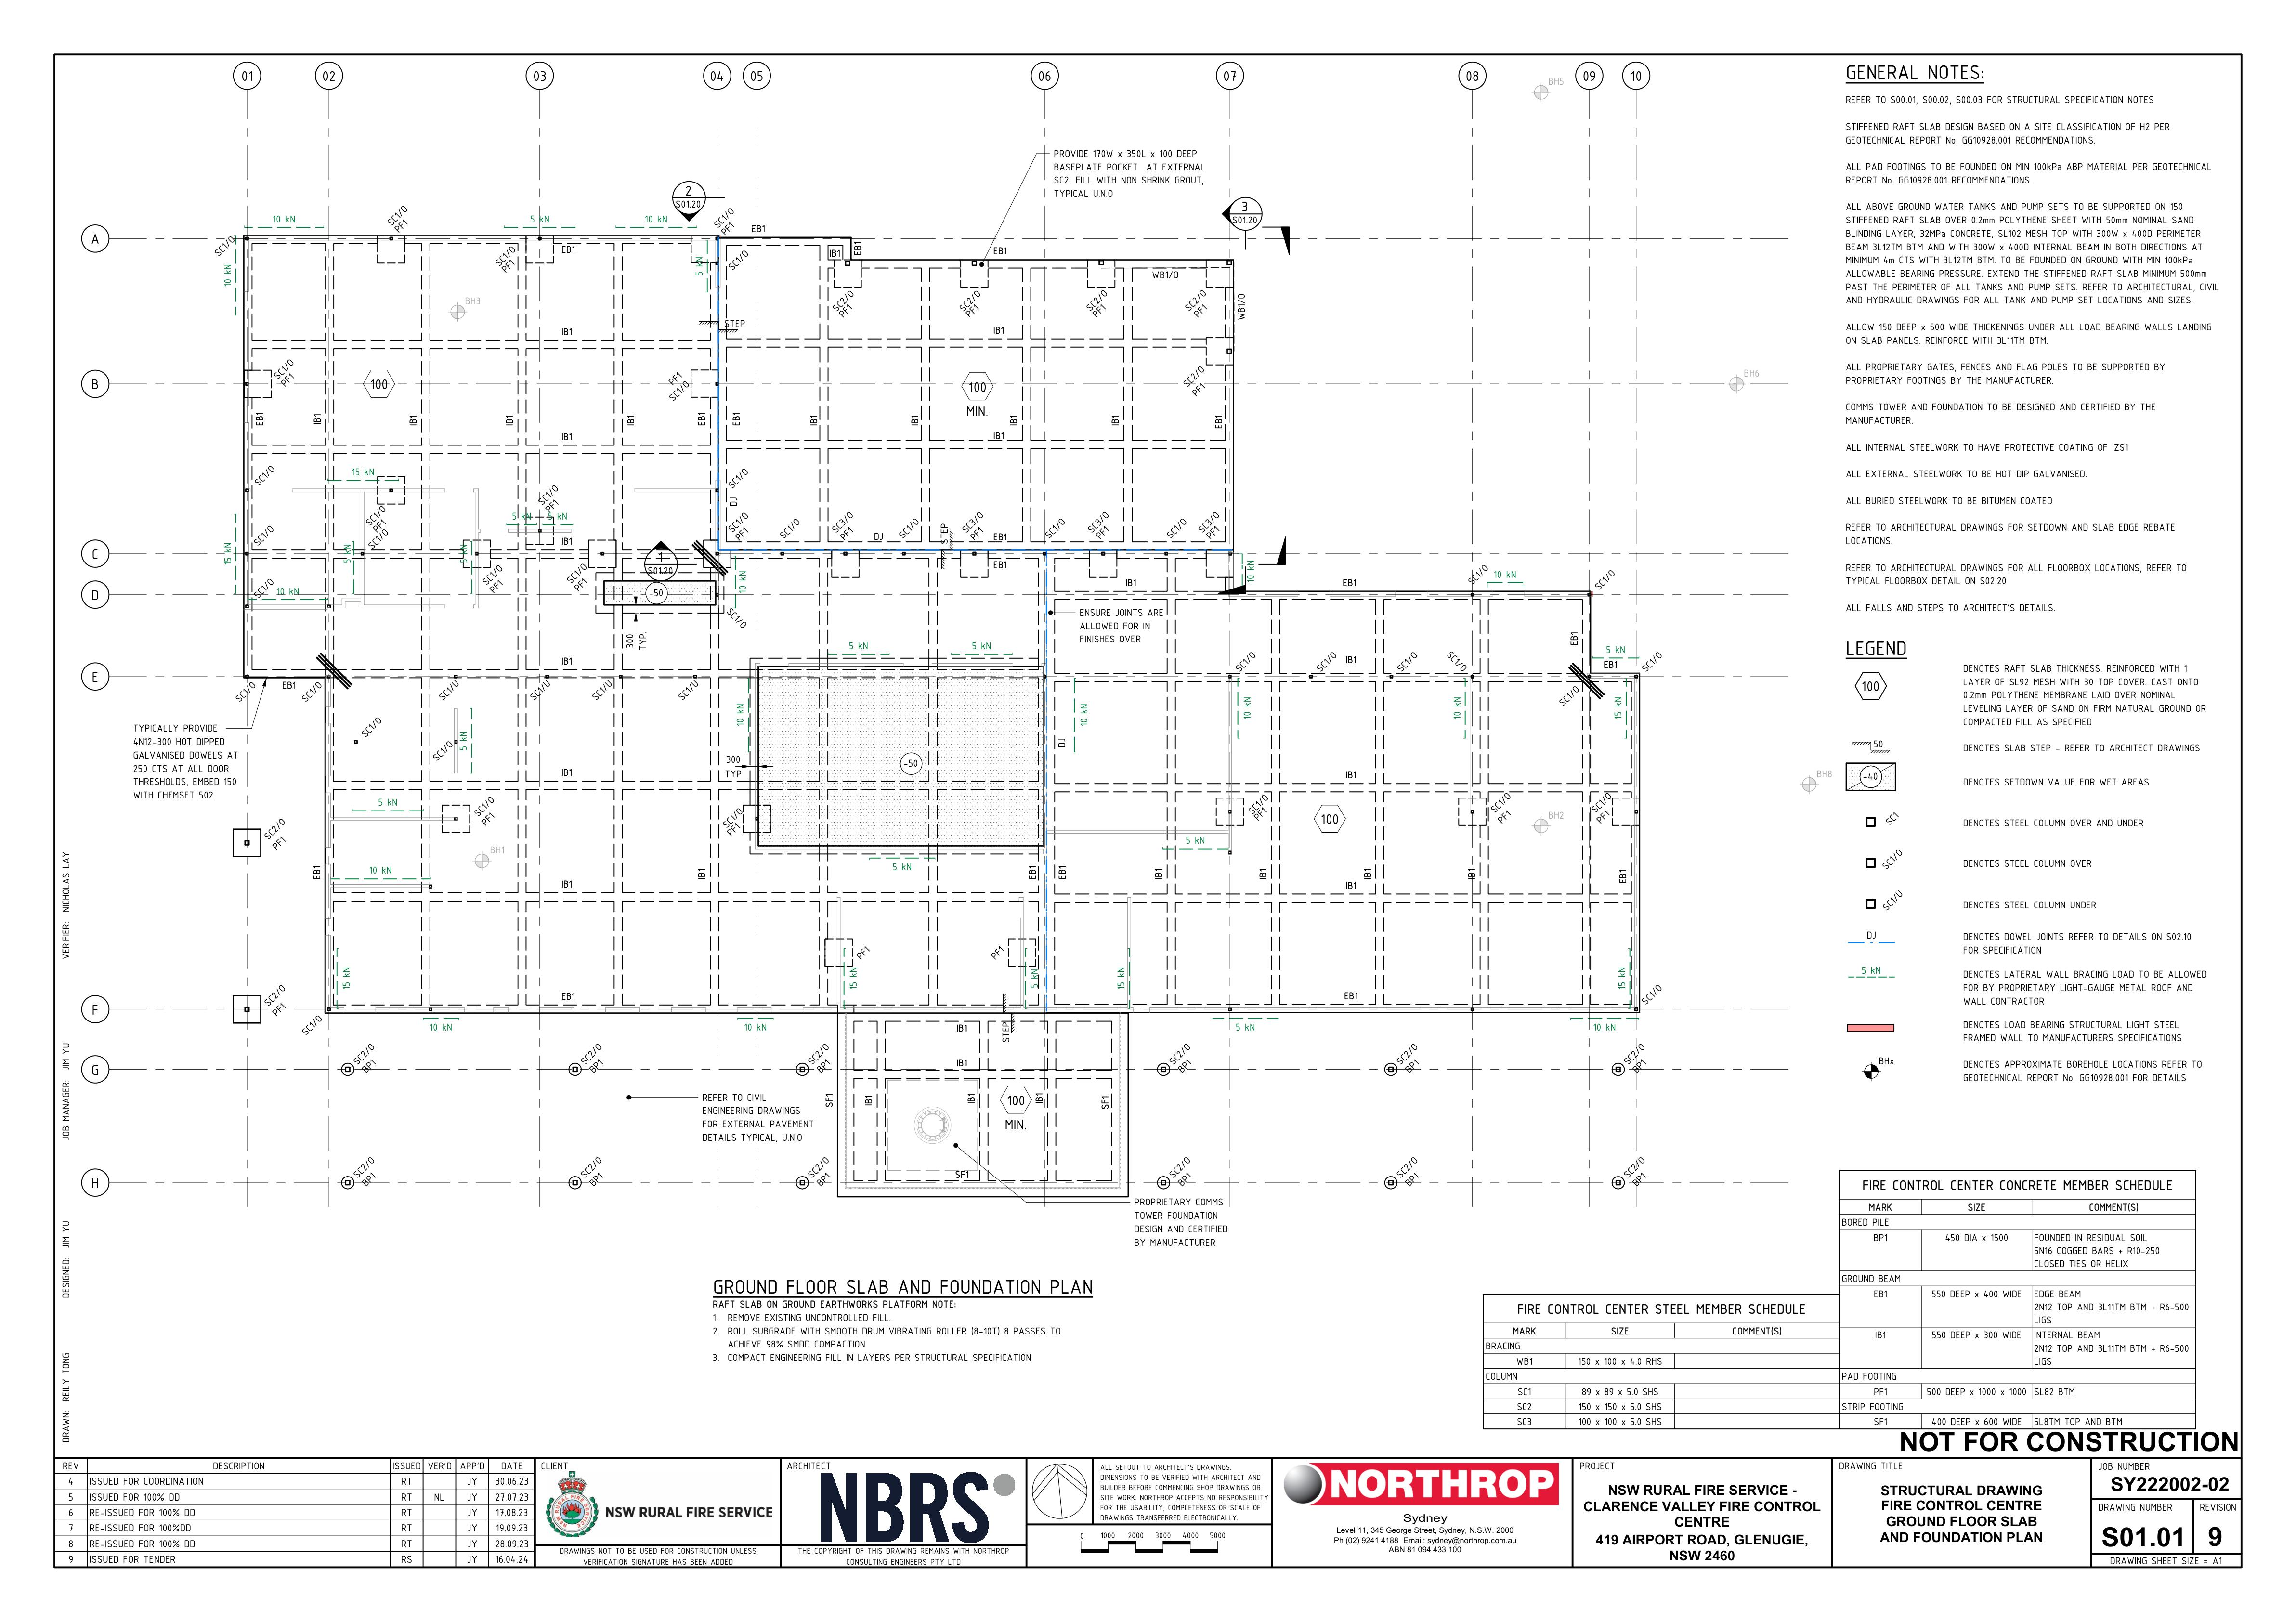BP1: (1403, 1169, 1434, 1192), (590, 1171, 607, 1188), (362, 1059, 381, 1074), (1632, 1060, 1652, 1076), (1632, 1173, 1652, 1188), (1176, 1169, 1192, 1188), (1252, 807, 1269, 823), (1176, 1060, 1195, 1074), (590, 1059, 606, 1074), (1406, 1059, 1422, 1074), (818, 1059, 832, 1073), (816, 1173, 832, 1185), (362, 1174, 376, 1185)
DJ: (867, 527, 886, 542)
EB1: (983, 240, 1016, 258), (309, 857, 325, 886), (1339, 572, 1364, 590), (1055, 860, 1073, 885), (558, 988, 585, 1004), (846, 239, 869, 256), (1339, 988, 1364, 1004), (1566, 625, 1583, 646), (1023, 862, 1041, 881), (279, 678, 302, 692), (1615, 864, 1629, 885), (730, 409, 744, 428), (255, 409, 269, 428), (751, 223, 771, 237), (558, 244, 579, 256), (990, 558, 1009, 571), (1601, 657, 1620, 669), (1211, 413, 1225, 428), (992, 530, 1008, 542), (697, 413, 709, 427)
IB1: (555, 762, 583, 779), (1248, 865, 1271, 881), (990, 428, 1011, 444), (560, 653, 583, 667), (556, 430, 579, 444), (1343, 765, 1360, 783), (1122, 574, 1141, 590), (953, 1022, 976, 1034), (693, 865, 709, 883), (309, 409, 325, 427), (1464, 865, 1478, 885), (823, 244, 843, 258), (1008, 413, 1023, 428), (1108, 413, 1123, 428), (864, 1094, 879, 1109), (558, 327, 578, 339), (1339, 879, 1359, 892), (992, 323, 1008, 337), (558, 878, 574, 892), (625, 414, 641, 428), (1152, 864, 1164, 881), (558, 535, 576, 548), (965, 1090, 978, 1108), (906, 413, 920, 427), (1345, 651, 1359, 665), (506, 414, 520, 428), (955, 1055, 971, 1067), (407, 413, 420, 428), (1362, 865, 1373, 881), (1034, 1088, 1044, 1104), (807, 413, 818, 427)
PF1: (855, 944, 881, 964), (987, 943, 1013, 962), (281, 372, 307, 390), (665, 367, 688, 386), (723, 820, 743, 837), (570, 576, 590, 592), (499, 262, 514, 279), (1190, 383, 1208, 398), (270, 837, 290, 851), (269, 1004, 288, 1018), (1206, 527, 1222, 542), (479, 813, 497, 827), (486, 581, 506, 593), (971, 527, 987, 541), (735, 527, 750, 542), (1499, 811, 1515, 825), (1596, 809, 1611, 823), (1195, 305, 1209, 319), (841, 527, 853, 542), (967, 305, 981, 318), (1092, 305, 1106, 318), (1097, 527, 1111, 539), (839, 307, 853, 318)
SC1/0: (1639, 978, 1669, 1009), (1238, 790, 1278, 813), (1443, 646, 1476, 672), (1585, 785, 1615, 811), (723, 604, 751, 630), (1590, 569, 1622, 592), (1394, 651, 1422, 674), (356, 714, 386, 736), (1229, 650, 1259, 671), (302, 1015, 326, 1039), (1555, 683, 1582, 706), (360, 500, 388, 521), (1464, 563, 1492, 585), (725, 248, 750, 270), (1044, 518, 1069, 541), (1162, 516, 1187, 539), (1641, 650, 1664, 674), (300, 681, 326, 702), (727, 465, 750, 488), (532, 481, 558, 500), (212, 233, 233, 256), (779, 516, 802, 537), (1315, 650, 1338, 671), (383, 202, 407, 221), (720, 804, 744, 823), (255, 578, 276, 599), (897, 518, 918, 539), (255, 465, 277, 484), (233, 683, 256, 702), (1490, 790, 1513, 809), (725, 511, 750, 528), (255, 525, 274, 546), (432, 741, 453, 760), (565, 562, 586, 579), (472, 795, 495, 811), (491, 244, 514, 260), (479, 565, 504, 579), (274, 358, 293, 376), (713, 209, 734, 225), (669, 383, 690, 398), (367, 532, 390, 546)
SC1/U: (579, 678, 618, 700), (676, 676, 702, 702), (435, 678, 467, 699), (528, 679, 555, 700)
SC2/0: (1160, 1153, 1192, 1174), (804, 1043, 832, 1066), (1618, 1153, 1648, 1174), (1383, 1157, 1418, 1174), (578, 1039, 602, 1064), (579, 1153, 606, 1176), (1388, 1041, 1420, 1059), (1162, 1041, 1190, 1060), (353, 1153, 376, 1176), (351, 1043, 376, 1064), (263, 981, 288, 1002), (830, 290, 857, 309), (262, 816, 286, 836), (1618, 1041, 1643, 1060), (809, 1153, 829, 1176), (958, 290, 983, 307), (1085, 290, 1109, 307), (1185, 288, 1204, 309)
SC3/0: (1081, 507, 1108, 532), (1195, 507, 1218, 532), (830, 509, 851, 532), (962, 511, 983, 532)
SF1: (1101, 1090, 1115, 1115), (822, 1090, 836, 1111), (953, 1167, 974, 1180)
WB1/0: (1234, 286, 1252, 325)
